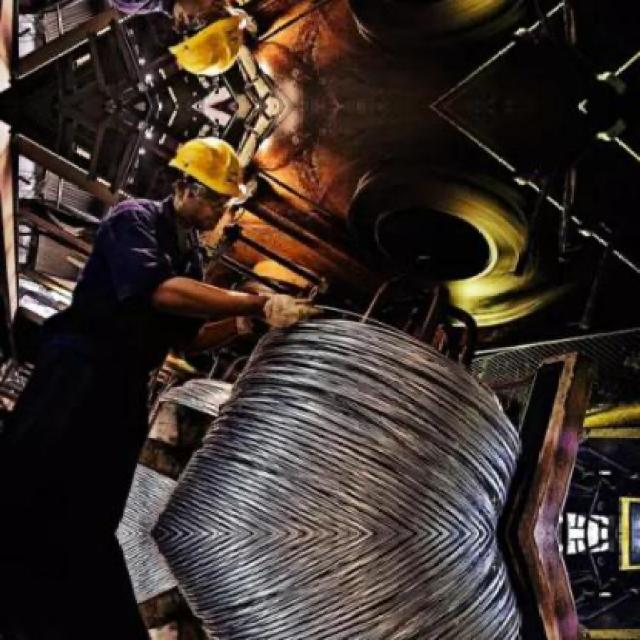con casco: (117, 126, 266, 235)
